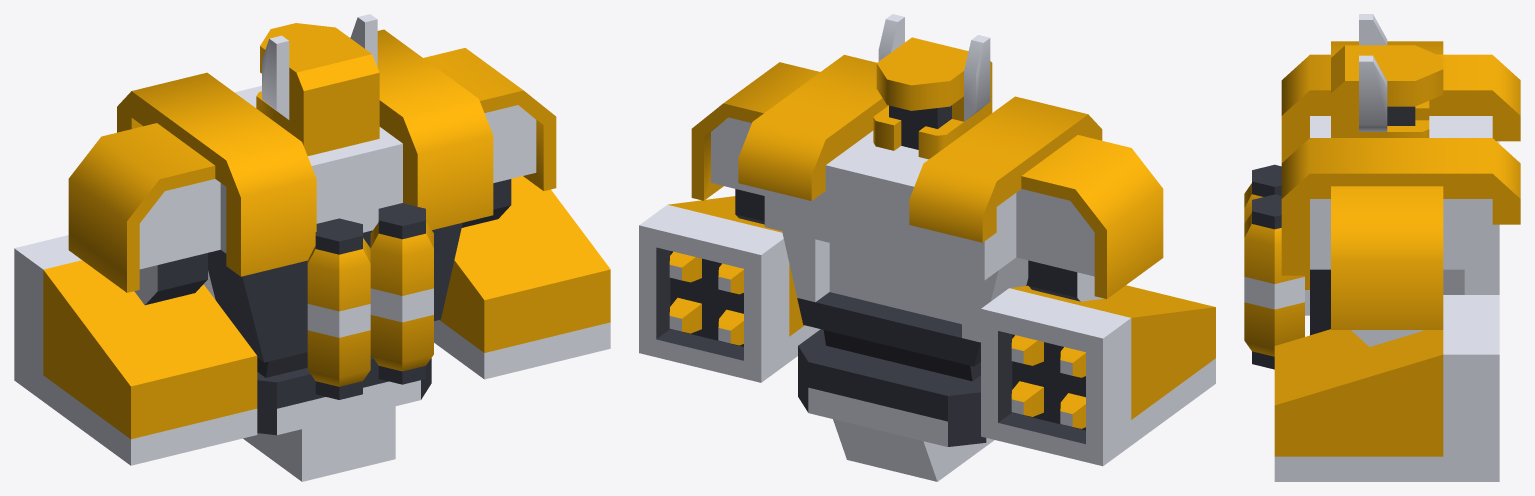
The model's file is mech-1.glb.
3 renders of one model, left to right at view 1: azimuth 30°, elevation 25°; view 2: azimuth 150°, elevation 25°; view 3: azimuth 270°, elevation 25°, orthographic. The views are drawn at different scales.
Visible parts, largest first — view 1: mergedBlocks(Clone); view 2: mergedBlocks(Clone); view 3: mergedBlocks(Clone).
Boxes of the visible parts, x1,y1,x2,y2 form: mergedBlocks(Clone): (14,14,610,481); mergedBlocks(Clone): (639,14,1215,481); mergedBlocks(Clone): (1244,14,1520,481).
Size of the model in its own units: 1.9 by 1.6 by 0.9833.
